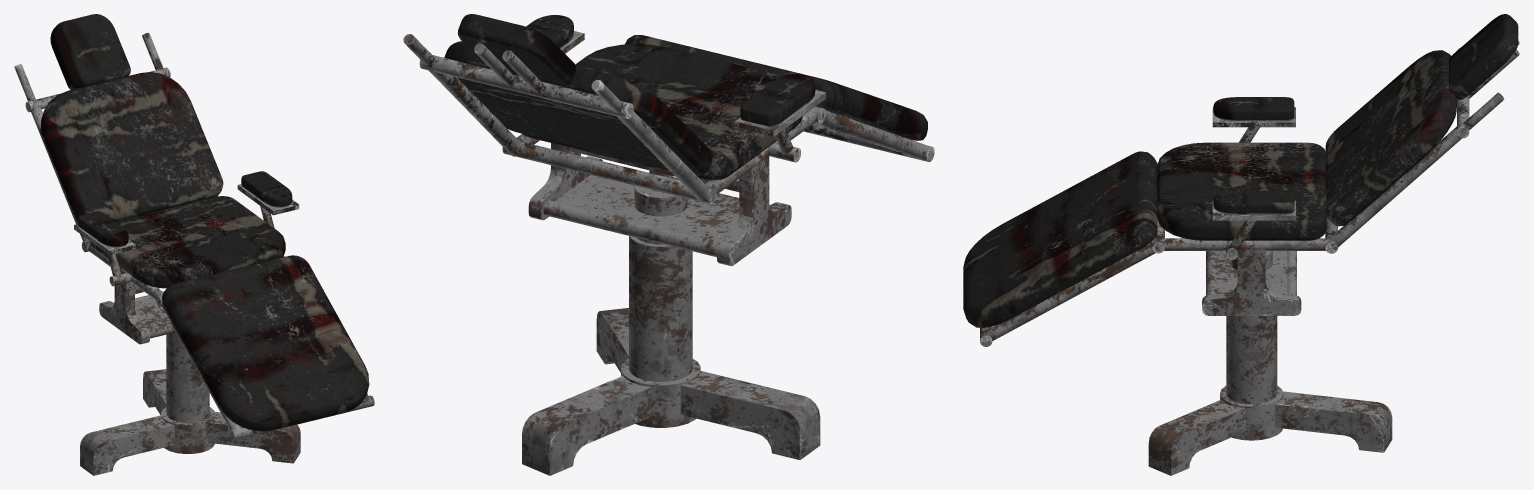
The model's file is operating_bed.glb.
3 renders of one model, left to right at view 1: azimuth 30°, elevation 25°; view 2: azimuth 150°, elevation 25°; view 3: azimuth 270°, elevation 25°, orthographic. The views are drawn at different scales.
Visible parts, largest first — view 1: ORBed; view 2: ORBed; view 3: ORBed.
Boxes of the visible parts, x1,y1,x2,y2 form: ORBed: [14, 14, 374, 475]; ORBed: [403, 14, 934, 475]; ORBed: [963, 14, 1519, 475].
Bounding box in the file's own units: 0.659 × 1.12 × 1.39.
Materials: 1 (1 with a texture image).
